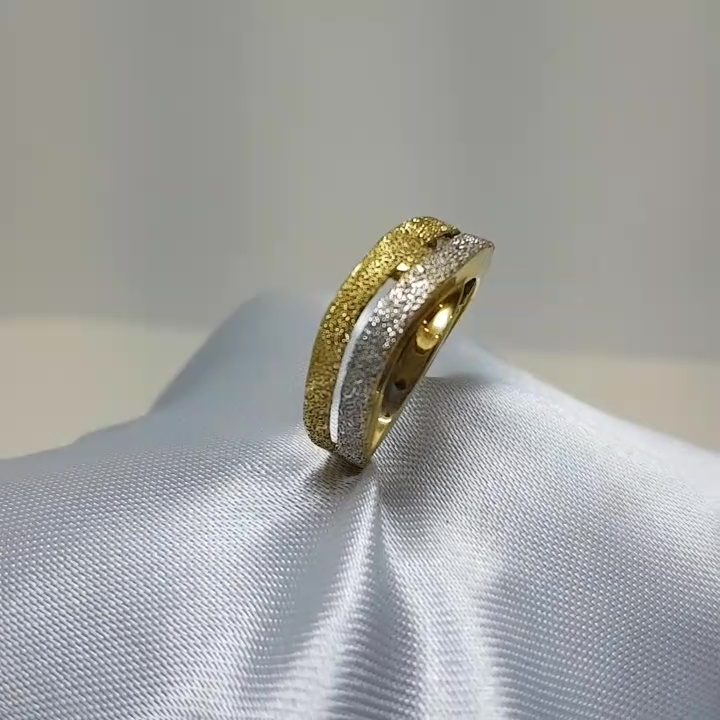Ring 5: (270, 205, 503, 493)
